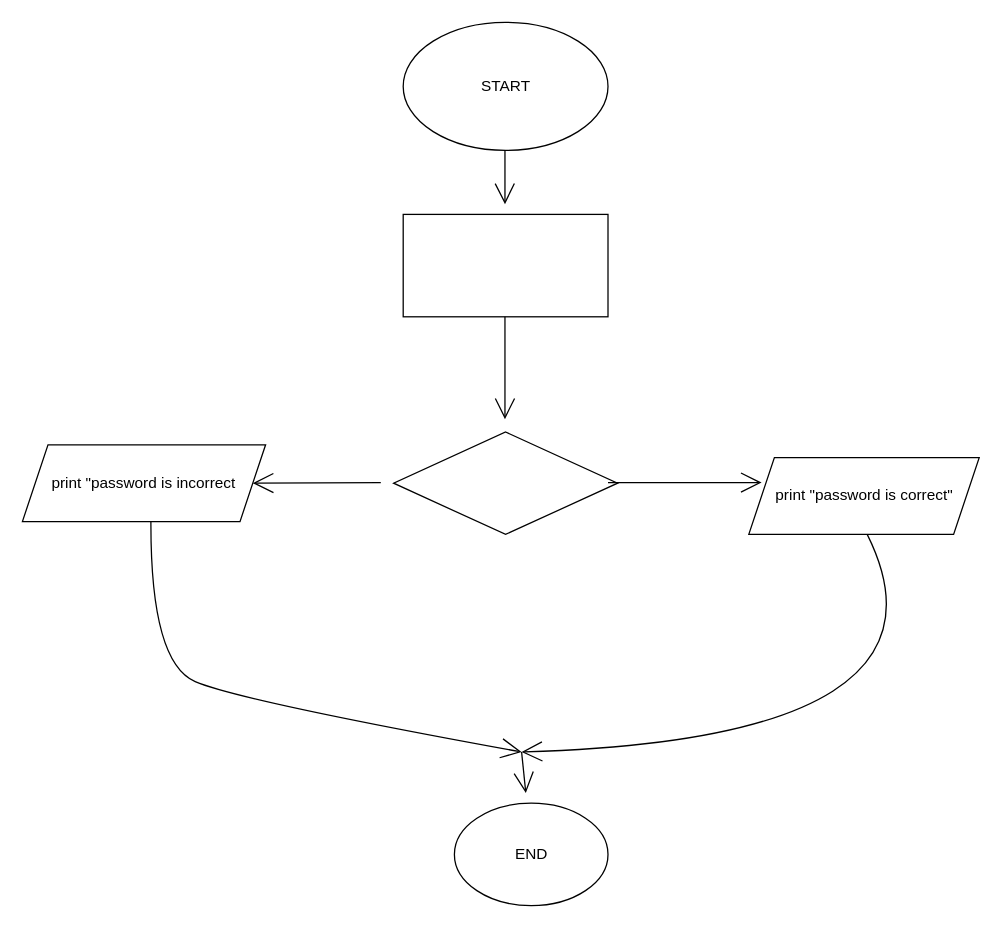
Some shapes in this 1002 by 928 pixel diagram are drawn without their labels. The shapes that lost their labels are listed below. From the top down, each one's centre as x and y in pixels, then its label:
the point at 505,265: input user
the point at 505,482: password == user
